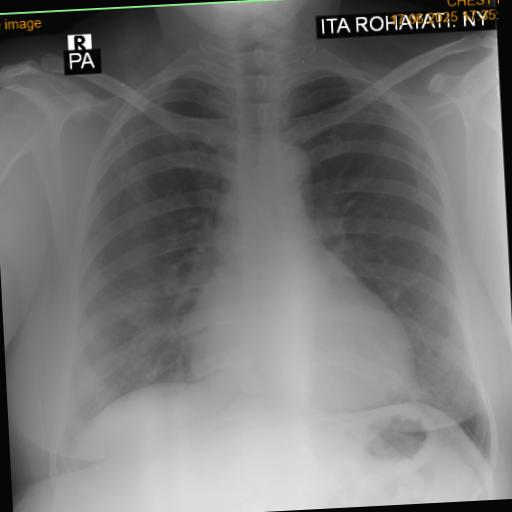kardiomegali: (30, 26, 500, 492)
